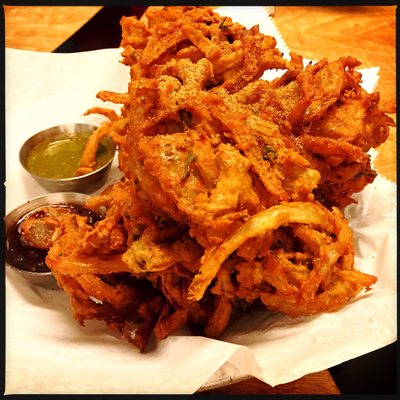sushi: (4, 192, 104, 282), (18, 123, 116, 194)
